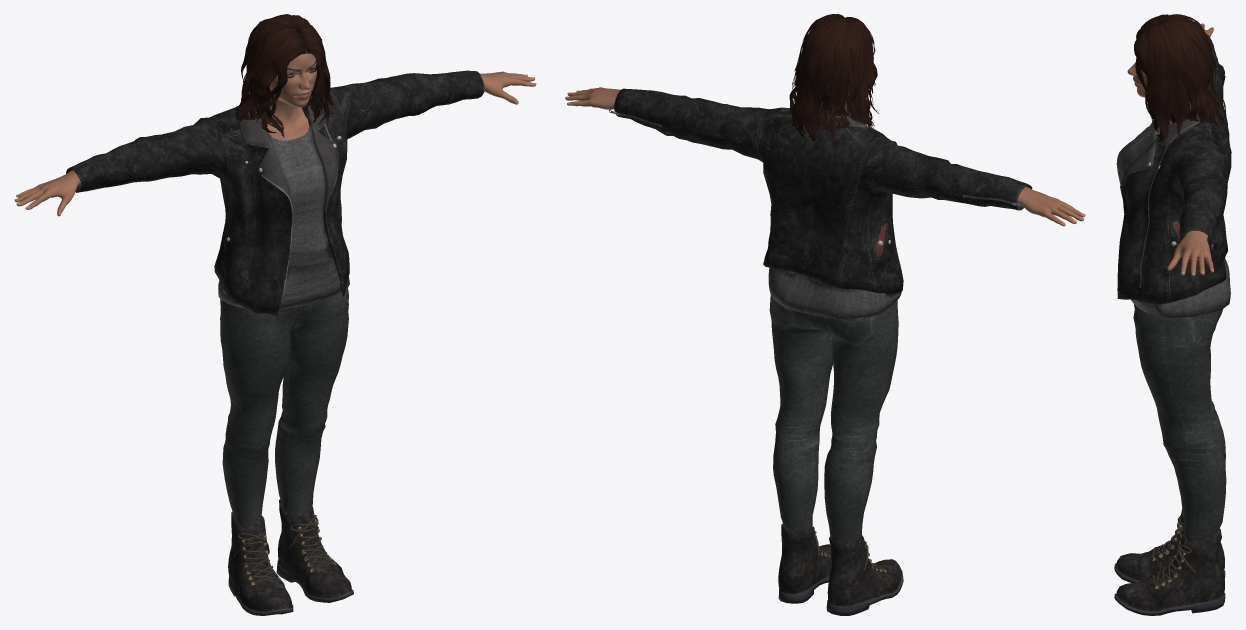
File: DaniJacket-OBJ.obj
3 views of the same model, side by side, from view 1: azimuth 30°, elevation 25°; view 2: azimuth 150°, elevation 25°; view 3: azimuth 270°, elevation 25° (orthographic).
Visible parts, largest first — view 1: Tops, Bottoms, Shoes, Hair, Body; view 2: Tops, Bottoms, Hair, Shoes, Body; view 3: Tops, Bottoms, Hair, Shoes, Body.
Boxes of the visible parts, x1,y1,x2,y2 form: Tops: (66, 70, 484, 316); Bottoms: (220, 288, 348, 527); Shoes: (228, 499, 353, 615); Hair: (235, 14, 334, 137); Body: (14, 40, 536, 216); Tops: (609, 88, 1032, 319); Bottoms: (769, 294, 898, 544); Hair: (789, 14, 878, 141); Shoes: (778, 524, 903, 615); Body: (565, 84, 1085, 226); Tops: (1116, 34, 1231, 317); Bottoms: (1133, 304, 1226, 542); Hair: (1134, 14, 1226, 141); Shoes: (1114, 508, 1225, 615); Body: (1127, 23, 1213, 276).
Size of the model in its own units: 158 by 167 by 30.93.
Materials: 5 (5 with a texture image).
